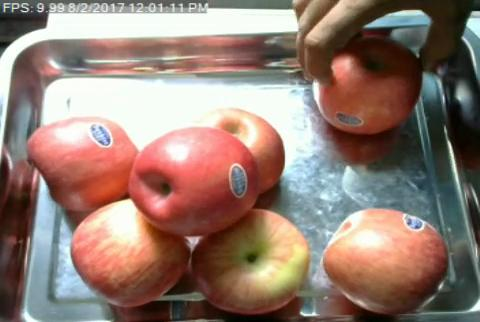apple: (128, 125, 259, 235), (321, 208, 450, 313), (193, 201, 310, 315), (70, 201, 190, 308), (26, 117, 142, 215), (313, 37, 424, 135), (194, 107, 285, 187)
